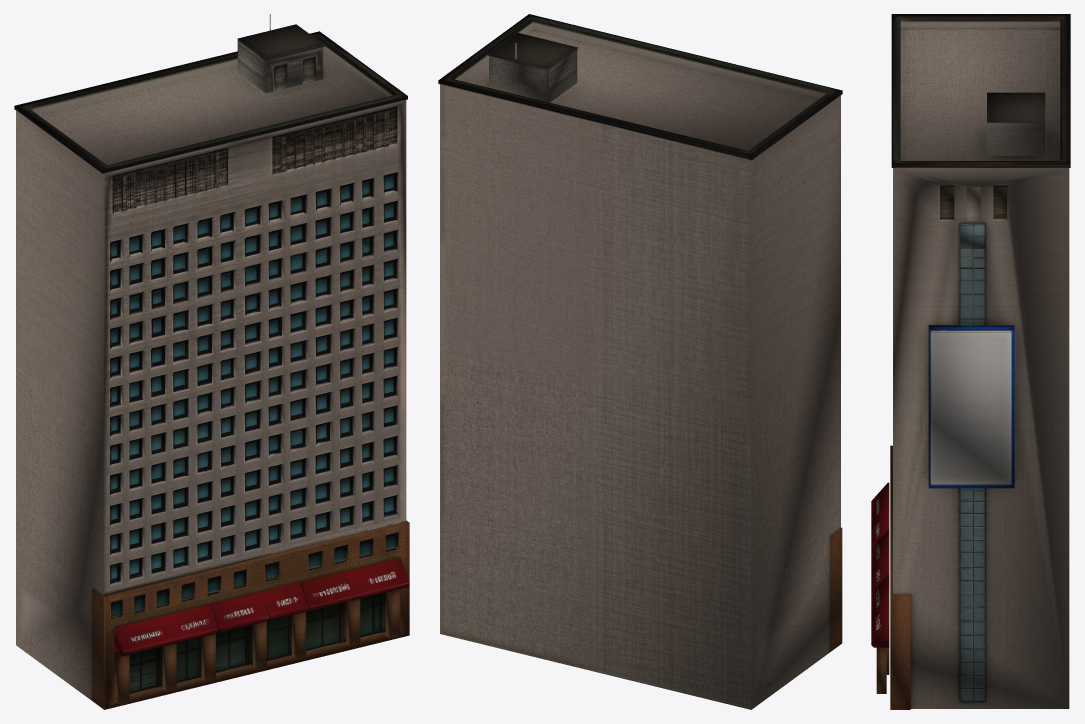
Rendered from office_building_3d_model.fbx.
3 views of the same model, side by side, from view 1: azimuth 30°, elevation 25°; view 2: azimuth 150°, elevation 25°; view 3: azimuth 270°, elevation 25° (orthographic). The views are drawn at different scales.
Visible parts, largest first — view 1: tripo_node_eac0b0b5; view 2: tripo_node_eac0b0b5; view 3: tripo_node_eac0b0b5.
Part boxes in pixels (x1,y1,x2,y2): tripo_node_eac0b0b5: (14, 14, 409, 709); tripo_node_eac0b0b5: (438, 14, 842, 709); tripo_node_eac0b0b5: (871, 14, 1070, 709).
Bounding box in the file's own units: 0.5684 × 0.998 × 0.3066.
